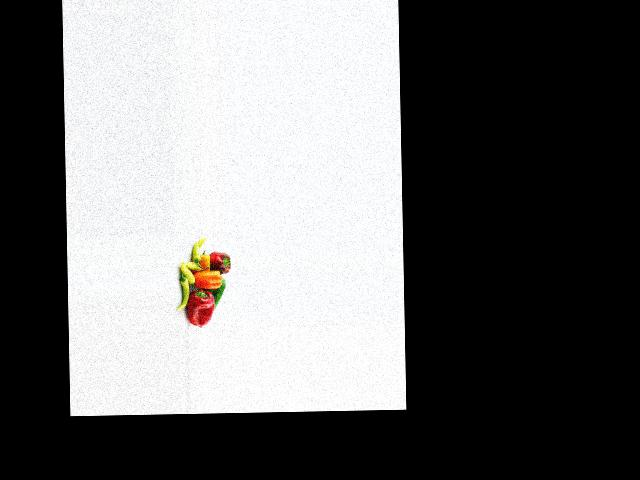bell_pepper: (176, 271, 189, 312)
